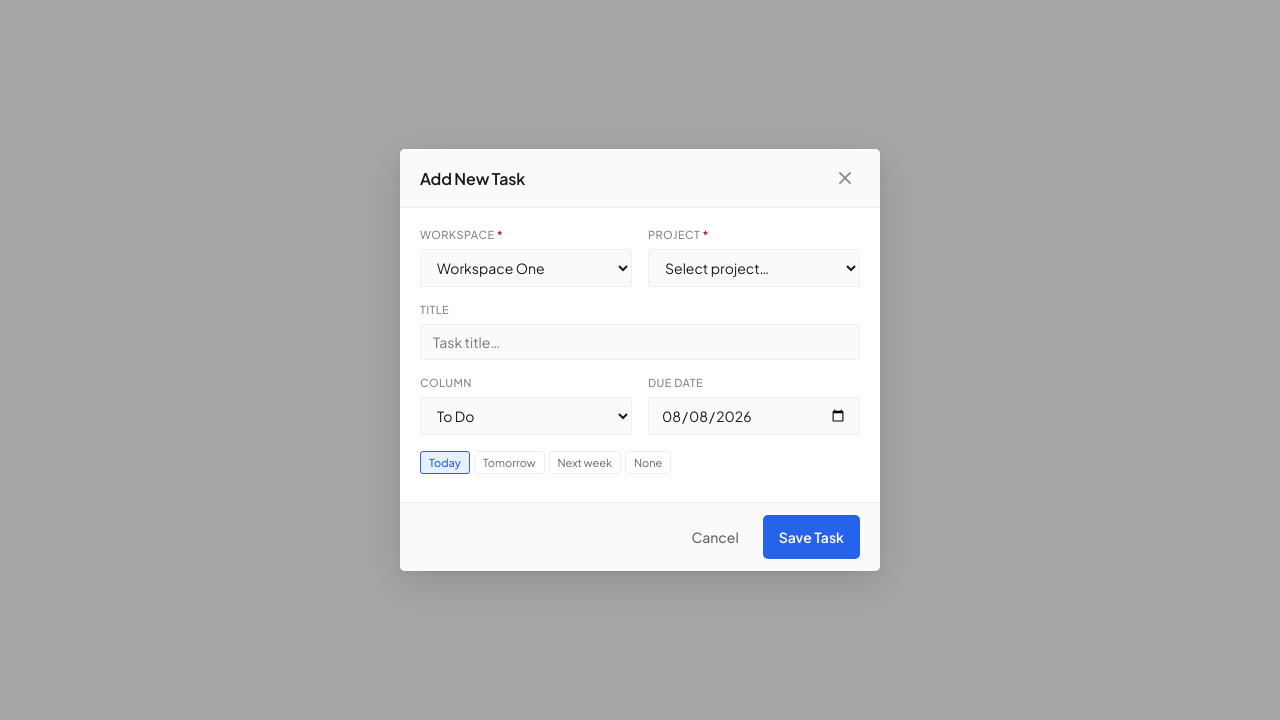
Test: DashboardAddTaskModal › requires project selection and displays error
The width and height of the screenshot is (1280, 720).
Expected: the dropdown labelled "Project *" shows "Select project…", left=648, top=249, right=860, bottom=287
// Submit form
Click the button "Save Task": [811, 537] box left=763, top=515, right=860, bottom=559
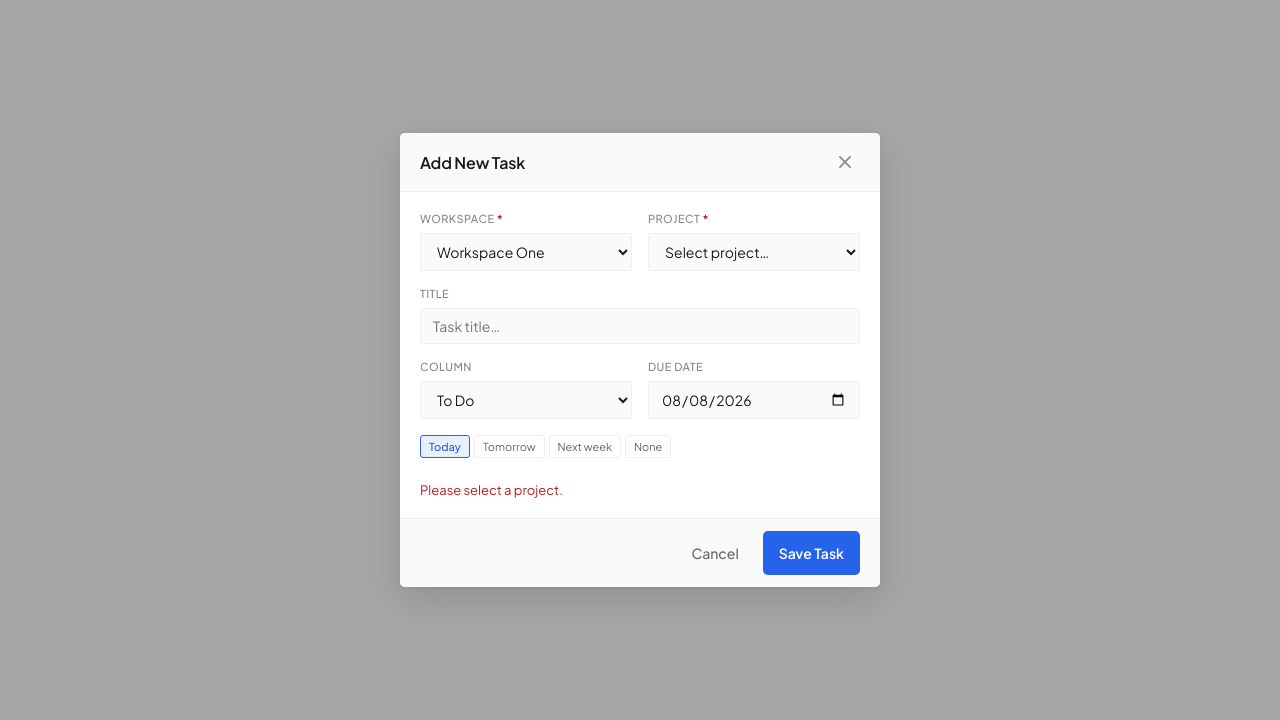
Expected: the text "Please select a project." is shown, left=420, top=482, right=563, bottom=498
